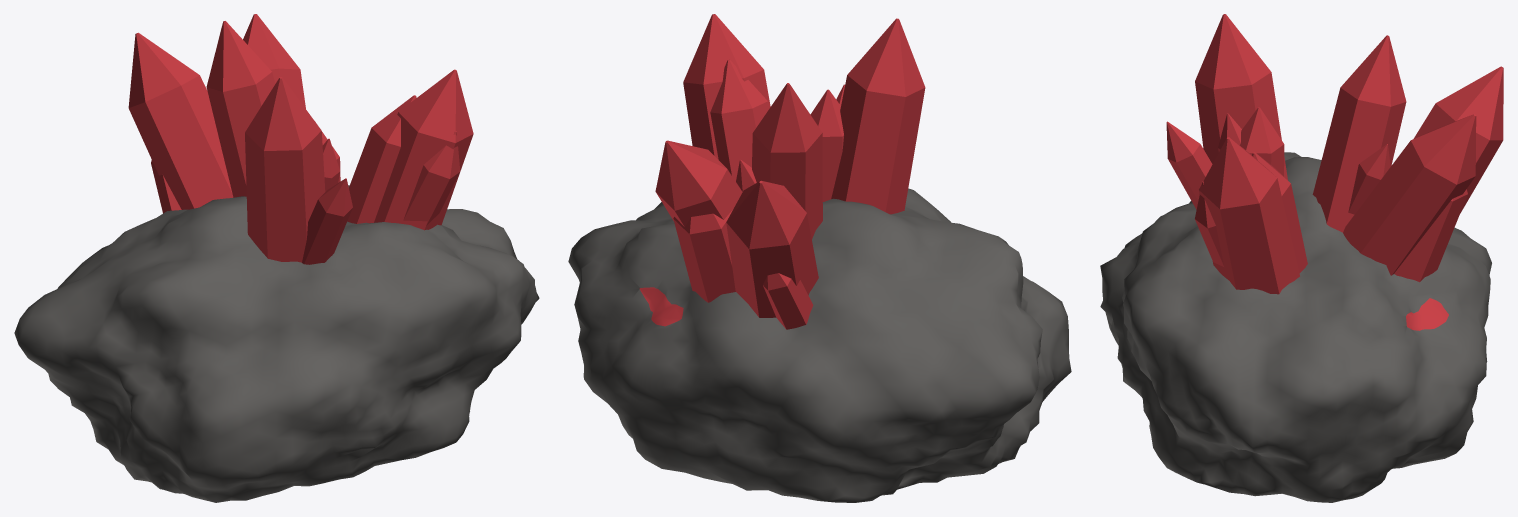
Rendered from cinnabar_deep.glb.
The picture shows the model from 3 angles, left to right: view 1: azimuth 30°, elevation 25°; view 2: azimuth 150°, elevation 25°; view 3: azimuth 270°, elevation 25°; orthographic projection. The views are drawn at different scales.
Visible parts, largest first — view 1: cinnabar_deep; view 2: cinnabar_deep; view 3: cinnabar_deep.
Part boxes in pixels (bbox=[...]): cinnabar_deep: bbox=[14, 14, 539, 502]; cinnabar_deep: bbox=[568, 14, 1071, 502]; cinnabar_deep: bbox=[1100, 14, 1503, 502].
Size of the model in its own units: 1.96 by 1.52 by 1.45.
